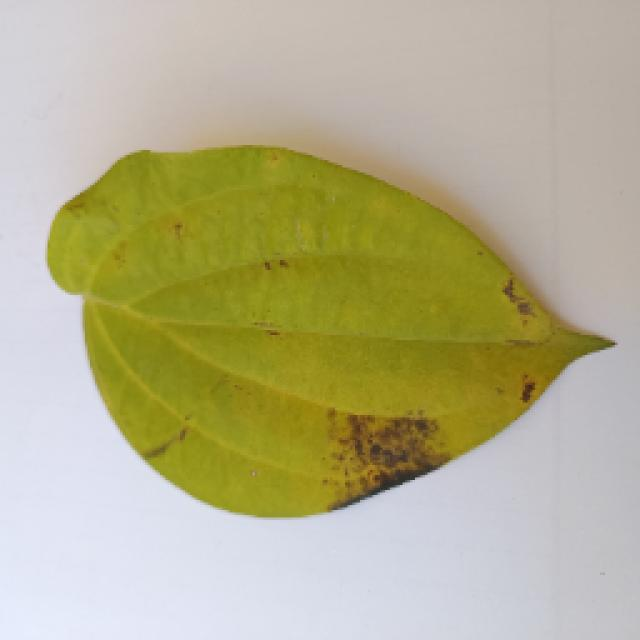slow-decline: (45, 142, 615, 518)
